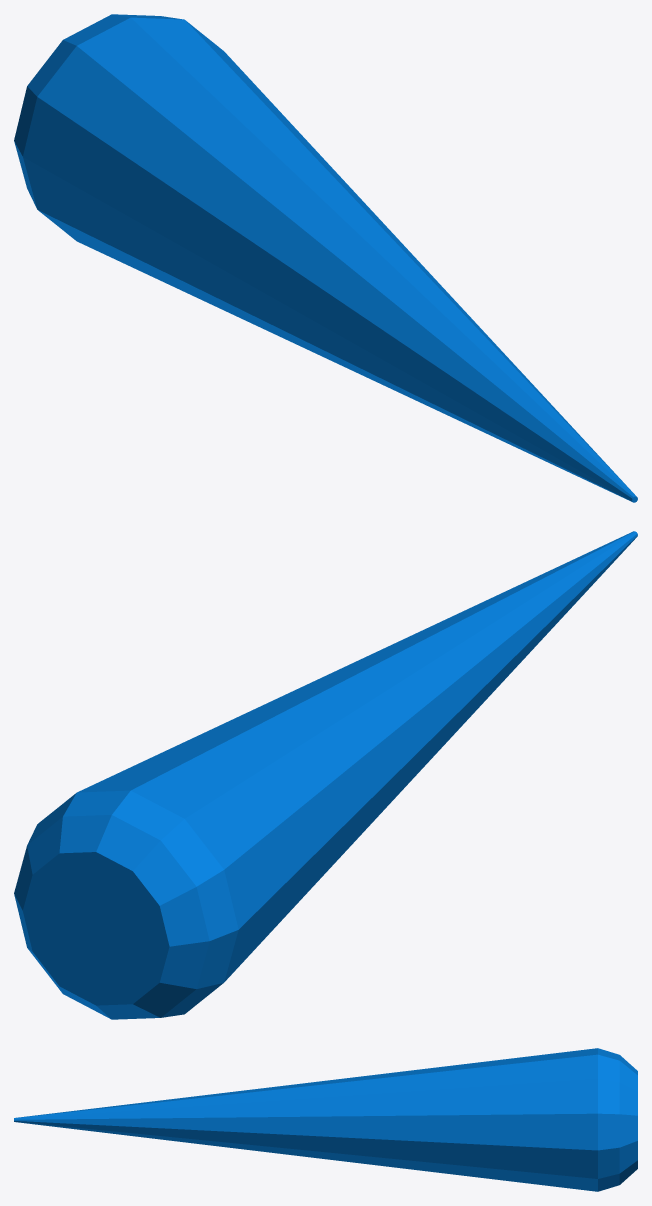
The model's file is IceProjectile.fbx.
3 views of the same model, one above another, from view 1: azimuth 30°, elevation 25°; view 2: azimuth 150°, elevation 25°; view 3: azimuth 270°, elevation 25° (orthographic). The views are drawn at different scales.
Parts seen in each view (by area): view 1: Cylinder; view 2: Cylinder; view 3: Cylinder.
Part boxes in pixels (<box>): Cylinder: <box>14,14,637,502</box>; Cylinder: <box>14,531,637,1019</box>; Cylinder: <box>14,1048,637,1191</box>.
Size of the model in its own units: 142 by 142 by 614.
